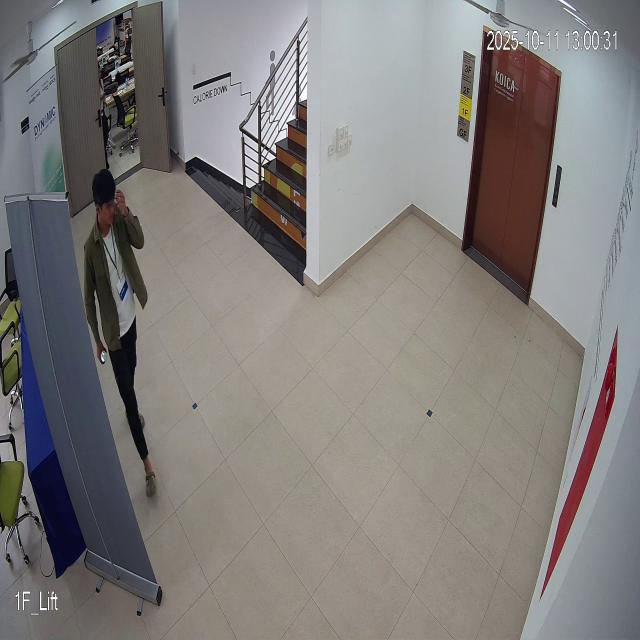face: (89, 170, 123, 237)
